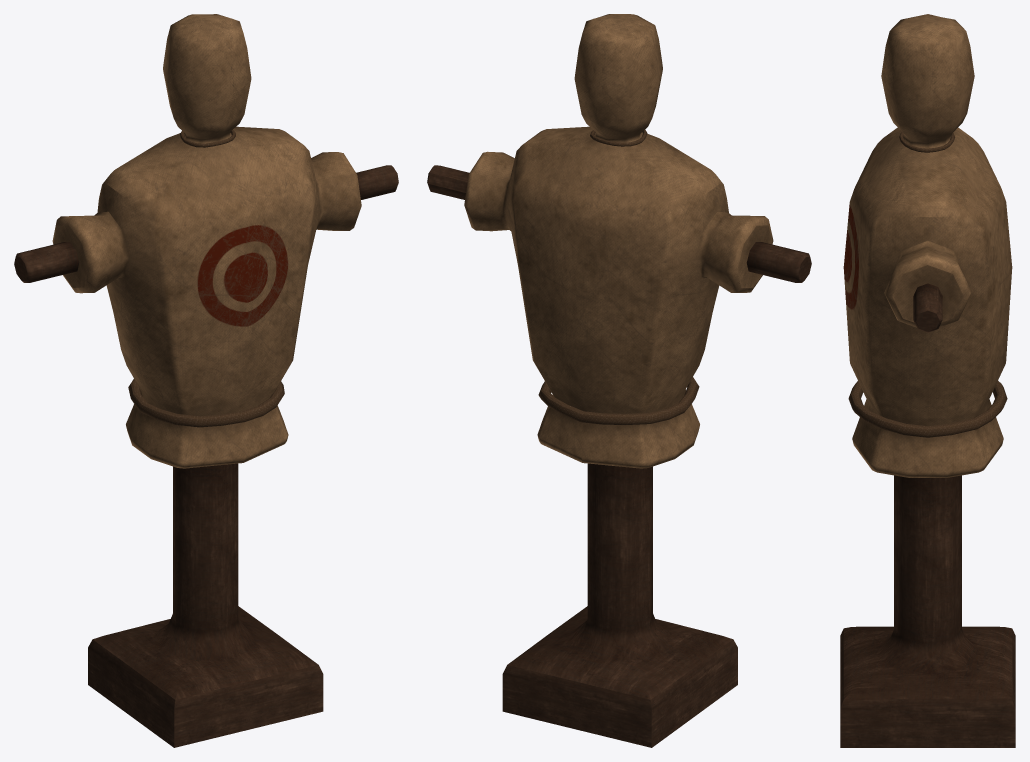
File: TargetDummy.fbx
3 renders of one model, left to right at view 1: azimuth 30°, elevation 25°; view 2: azimuth 150°, elevation 25°; view 3: azimuth 270°, elevation 25°, orthographic.
Visible parts, largest first — view 1: dummy, post, belt; view 2: dummy, post, belt; view 3: dummy, post, belt, necktie.
Part boxes in pixels (<box>): dummy: <box>14,14,398,468</box>; post: <box>88,463,323,747</box>; belt: <box>128,379,284,427</box>; dummy: <box>427,14,811,468</box>; post: <box>502,463,737,747</box>; belt: <box>538,377,699,424</box>; dummy: <box>843,14,1012,477</box>; post: <box>840,475,1015,747</box>; belt: <box>848,381,1007,437</box>; necktie: <box>899,132,954,152</box>.
Bounding box in the file's own units: 101 × 175 × 40.42.
